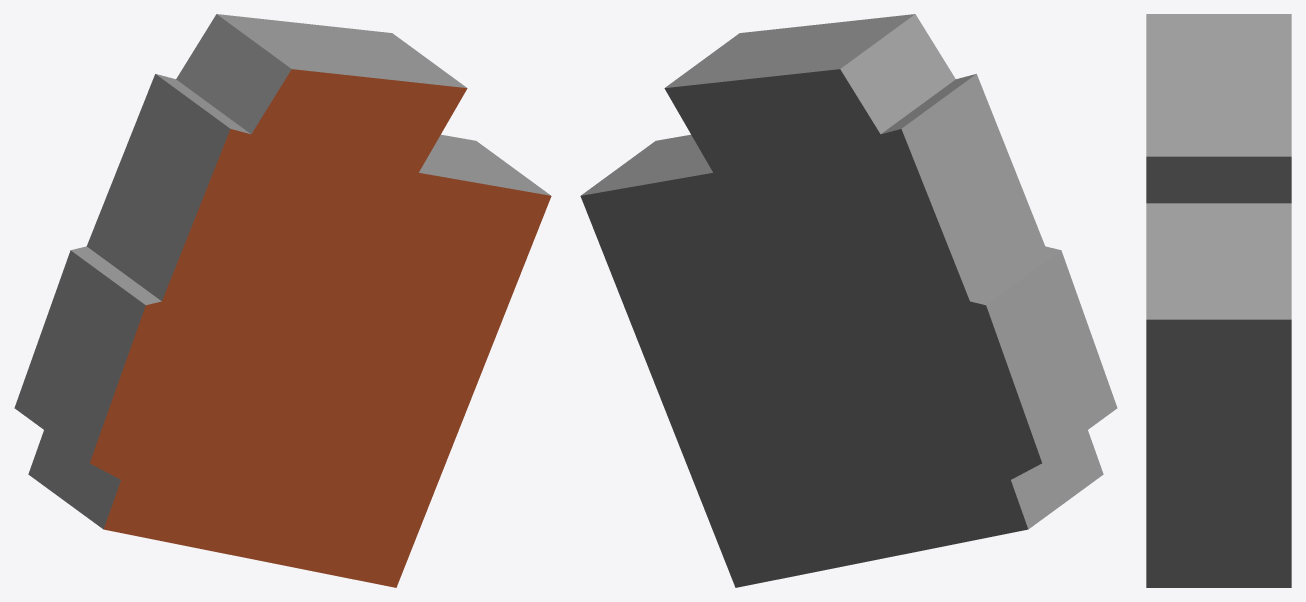
The model's file is construction_1043_assumed_A_Casa_h6m.obj.
3 renders of one model, left to right at view 1: azimuth 30°, elevation 25°; view 2: azimuth 150°, elevation 25°; view 3: azimuth 270°, elevation 25°, orthographic. The views are drawn at different scales.
Visible parts, largest first — view 1: construction_1043_assumed_A_Casa; view 2: construction_1043_assumed_A_Casa; view 3: construction_1043_assumed_A_Casa.
Part boxes in pixels (x1,y1,x2,y2): construction_1043_assumed_A_Casa: (14,14,551,587); construction_1043_assumed_A_Casa: (580,14,1117,587); construction_1043_assumed_A_Casa: (1146,14,1291,587).
Bounding box in the file's own units: 21.26 × 23.94 × 6.
